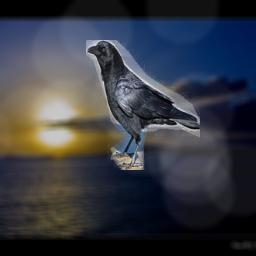Crow: (86, 40, 200, 170)
